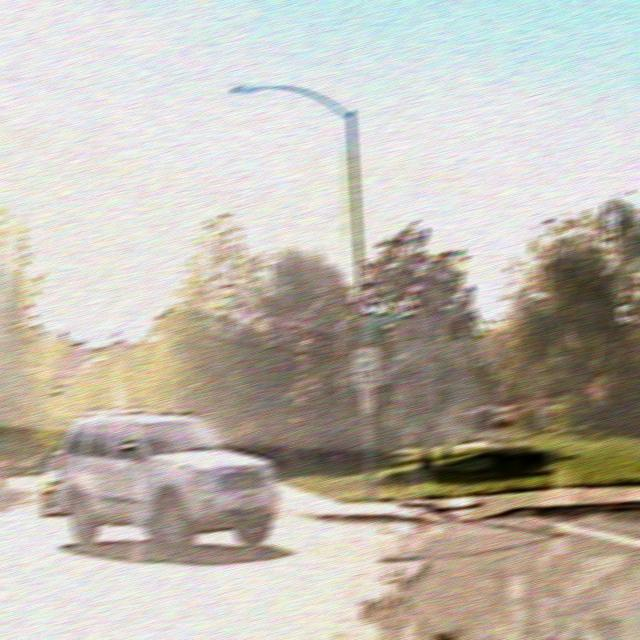speedLimit35: (350, 346, 381, 390)
